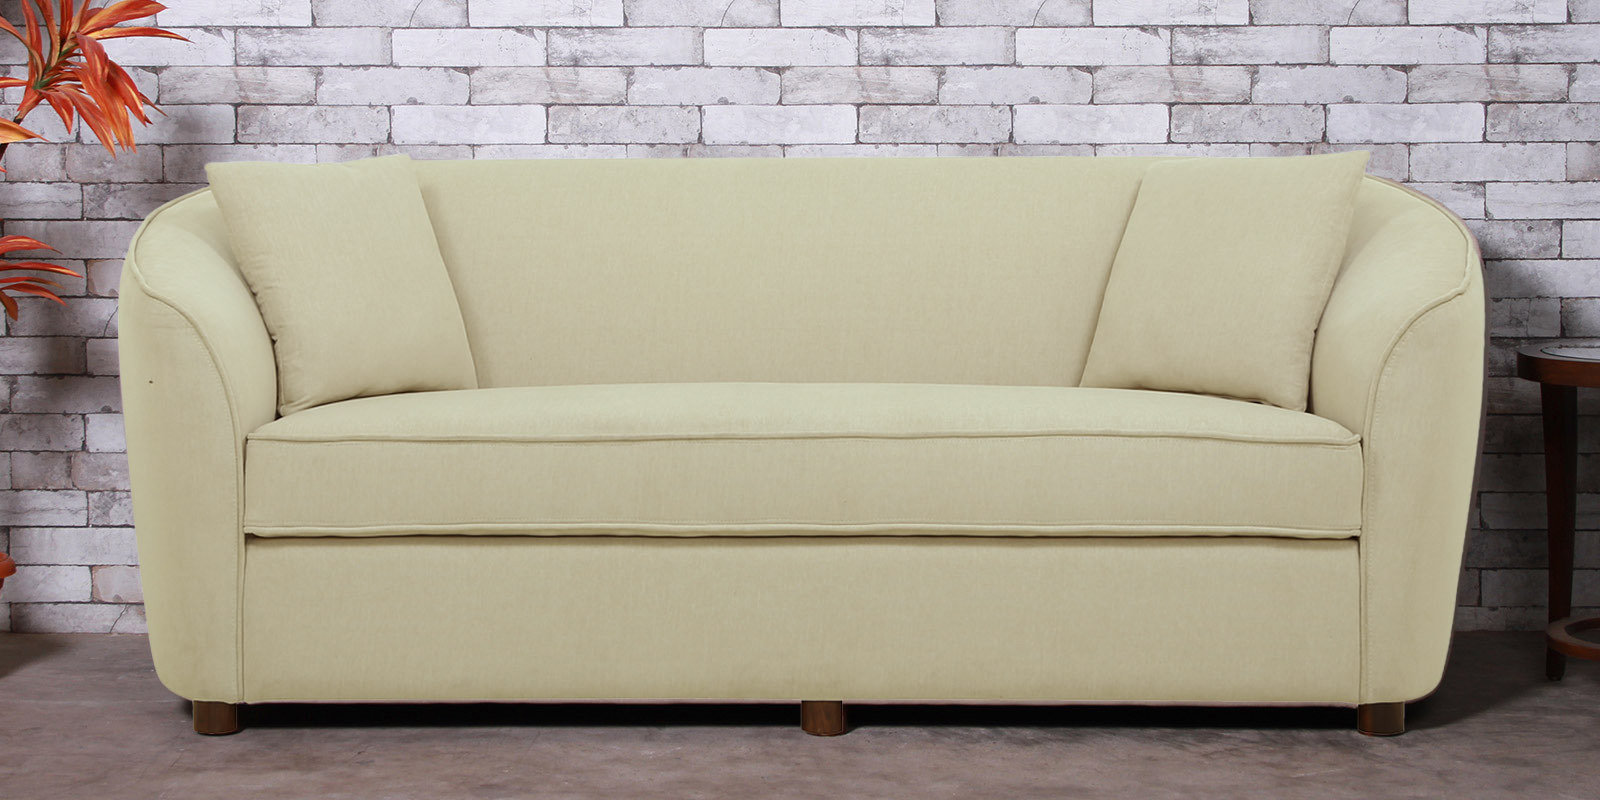Mamore Three Seater Sofa in Beige Color by CasaCraft: (121, 147, 1489, 736)
